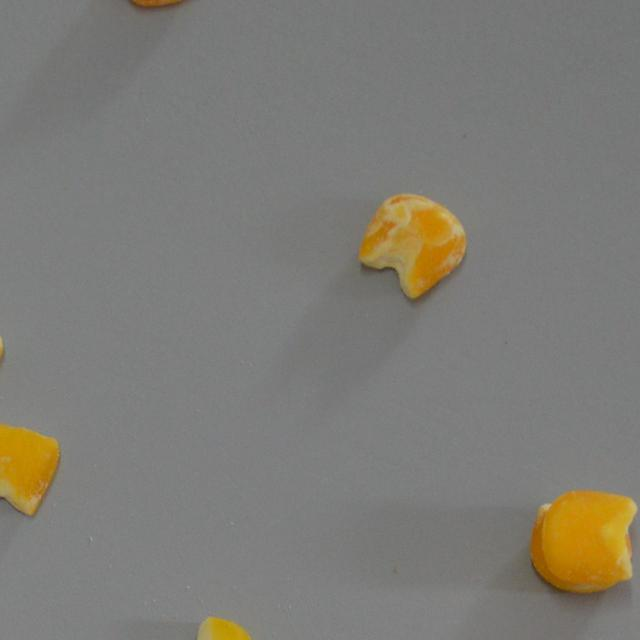no_canjicado: (155, 612, 256, 640)
pelicula: (354, 188, 469, 304), (526, 485, 639, 597), (0, 415, 61, 519)
